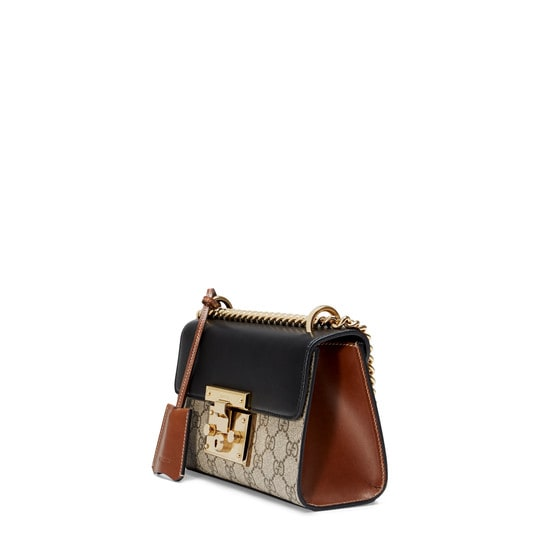Gucci: (151, 275, 412, 519), (254, 414, 300, 498)
